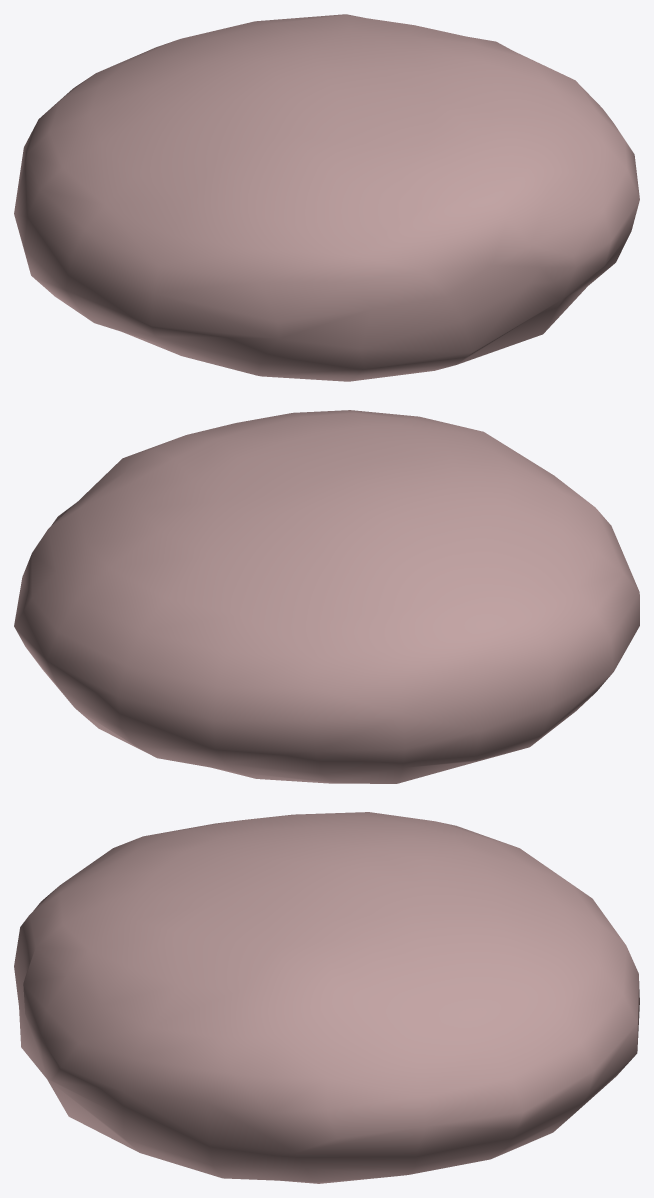
File: SM_Pillow_07.fbx
The picture shows the model from 3 angles, top to bottom: view 1: azimuth 30°, elevation 25°; view 2: azimuth 150°, elevation 25°; view 3: azimuth 270°, elevation 25°; orthographic projection. The views are drawn at different scales.
Visible parts, largest first — view 1: SM_Pillow_round_low; view 2: SM_Pillow_round_low; view 3: SM_Pillow_round_low.
Boxes of the visible parts, x1=… form: SM_Pillow_round_low: x1=14, y1=14, x2=639, y2=381; SM_Pillow_round_low: x1=14, y1=410, x2=639, y2=783; SM_Pillow_round_low: x1=14, y1=812, x2=639, y2=1183.
Bounding box in the file's own units: 94.01 × 38.65 × 90.56.
